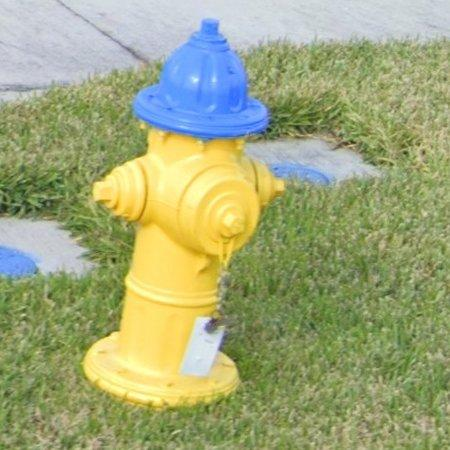a fire hydrant: (84, 18, 285, 408)
